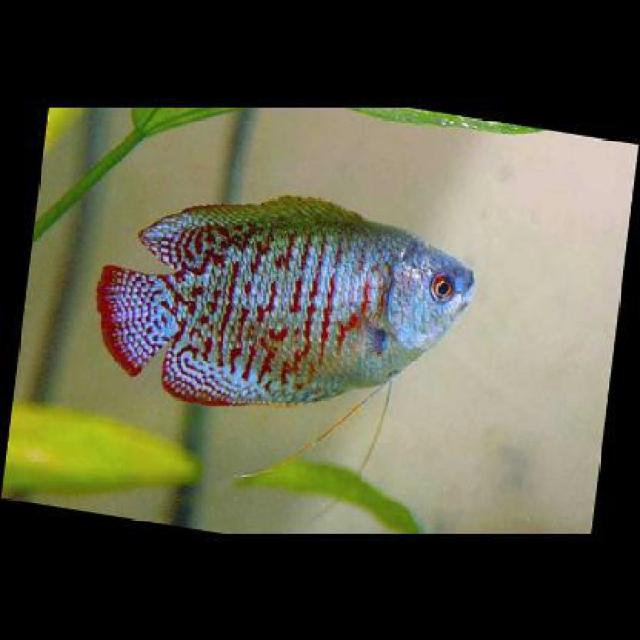Gourami: (92, 181, 477, 407)
